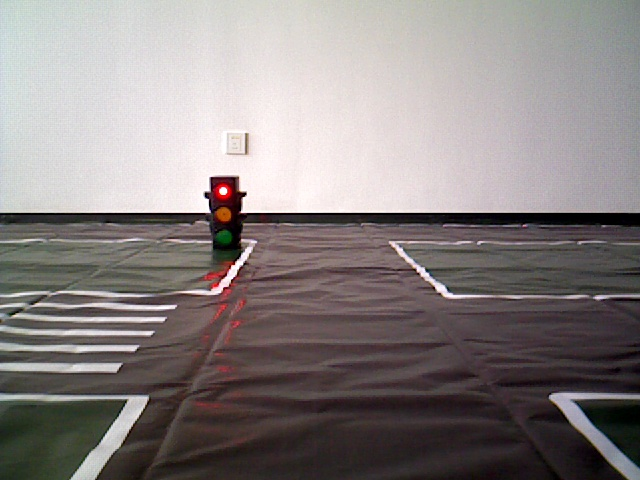red: (209, 176, 238, 251)
